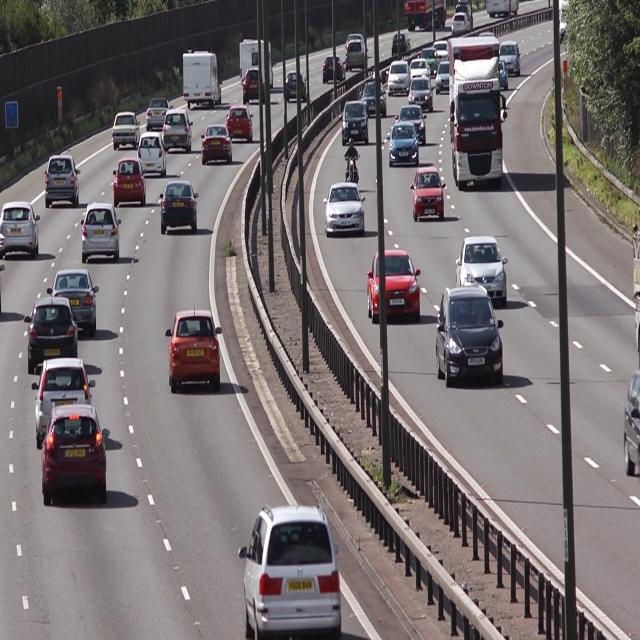Car: (240, 504, 345, 640), (446, 36, 506, 188), (436, 288, 506, 388), (40, 410, 110, 502), (36, 356, 93, 449), (165, 306, 226, 392), (27, 294, 82, 380), (368, 246, 424, 329), (48, 266, 101, 338), (456, 237, 510, 304), (78, 200, 124, 264), (0, 200, 41, 262), (182, 49, 224, 109), (324, 180, 367, 237), (160, 177, 200, 237), (410, 165, 447, 223), (44, 154, 82, 207), (112, 156, 146, 207), (202, 122, 233, 168), (163, 109, 194, 152), (139, 131, 167, 178), (113, 109, 143, 151), (390, 121, 419, 162), (224, 106, 256, 143), (342, 103, 371, 143), (363, 75, 389, 119), (241, 70, 270, 108), (408, 78, 436, 114), (403, 107, 428, 143)
